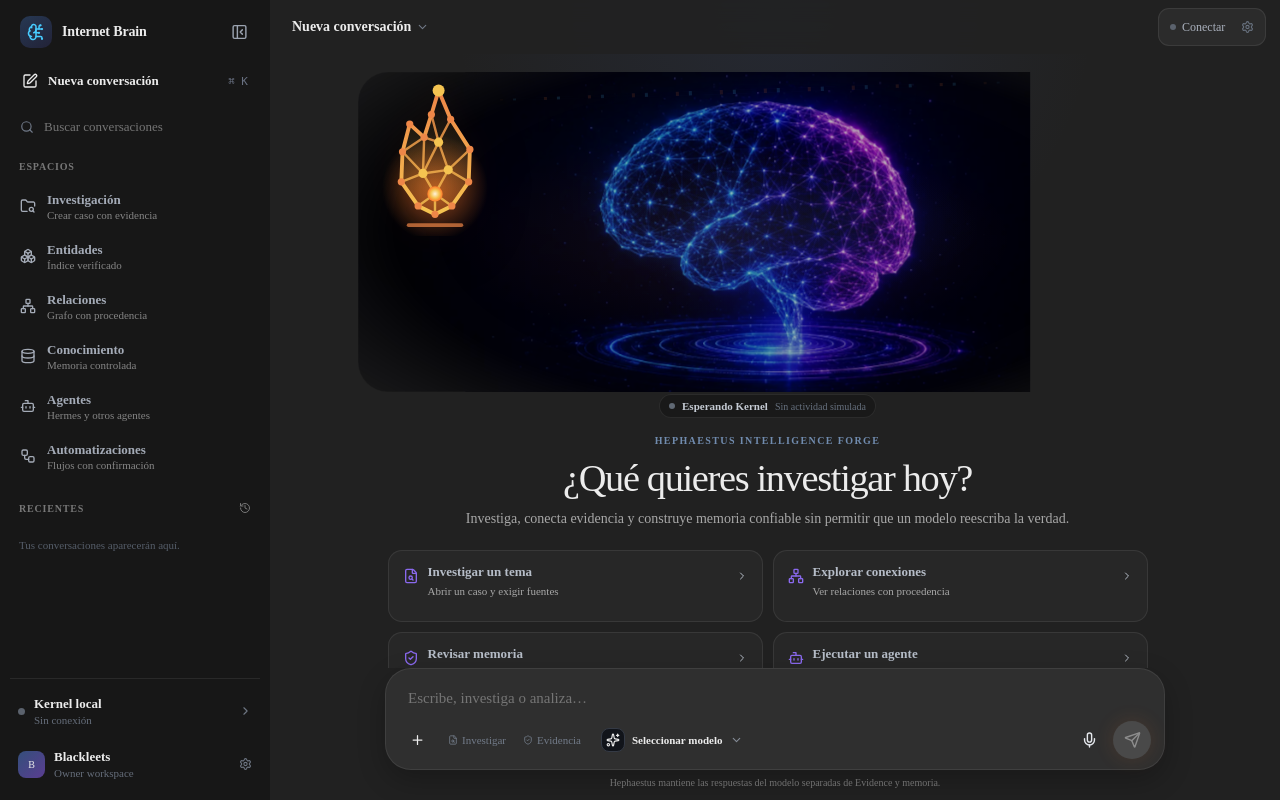
Test: Sites visual Control Center migration › keeps research as a draft until the owner explicitly executes it
The width and height of the screenshot is (1280, 800).
Click the button "Conectar" at (1212, 27), box 1158,8 -> 1266,46
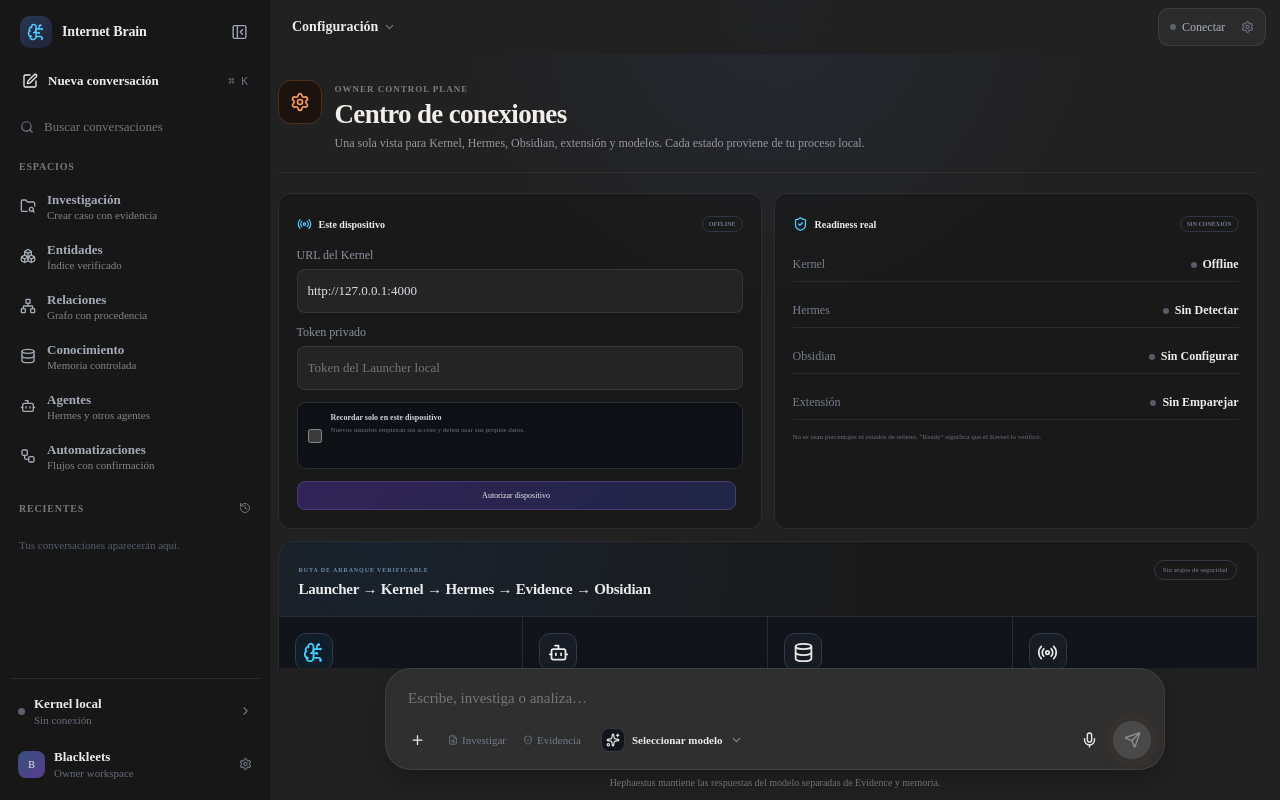
Type "test-token-that-is-long-enough-for-kernel-validation" into the password field labelled "Token privado" at (520, 368), box 296,346 -> 742,390
Click the button "Autorizar dispositivo" at (516, 496), box 296,481 -> 736,510
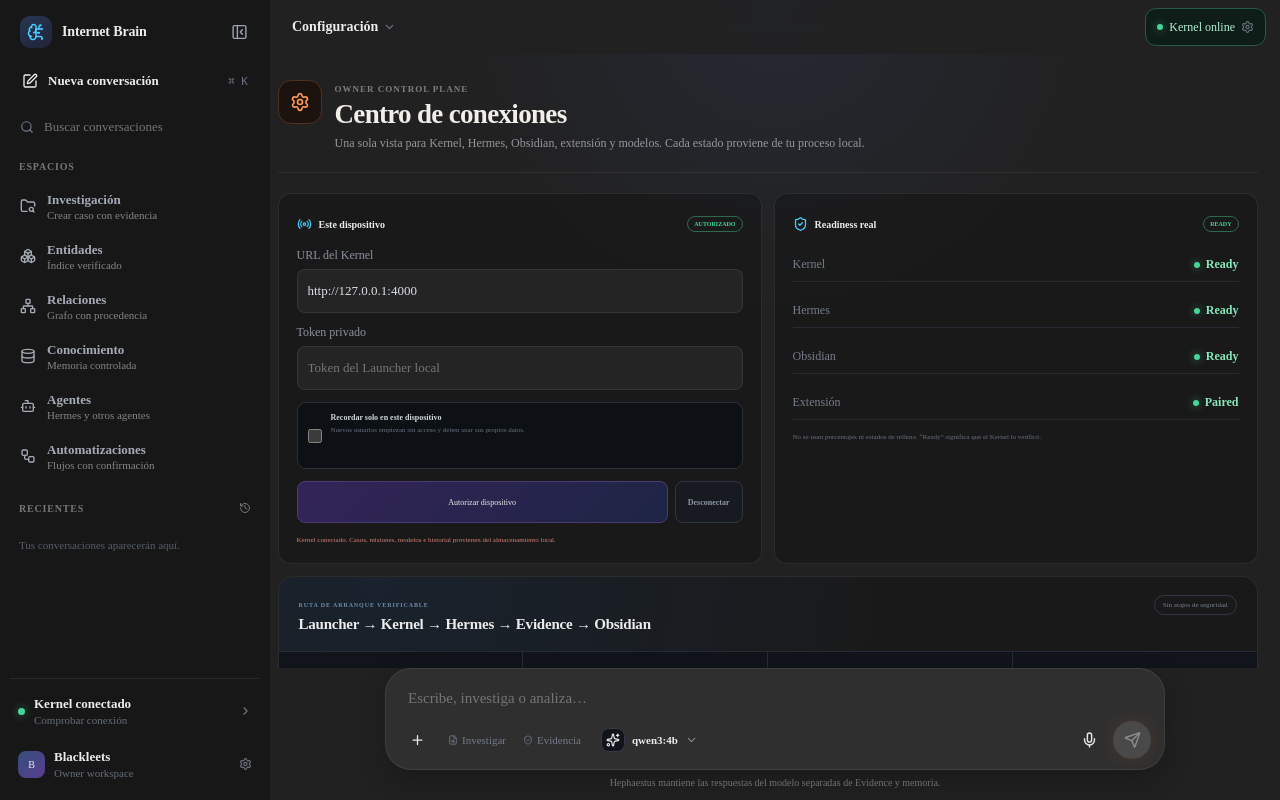
Now the button "Kernel online" is shown, box 1145,8 -> 1266,46
Click the button "Investigación Crear caso con evidencia" at (135, 206), box 10,182 -> 260,230
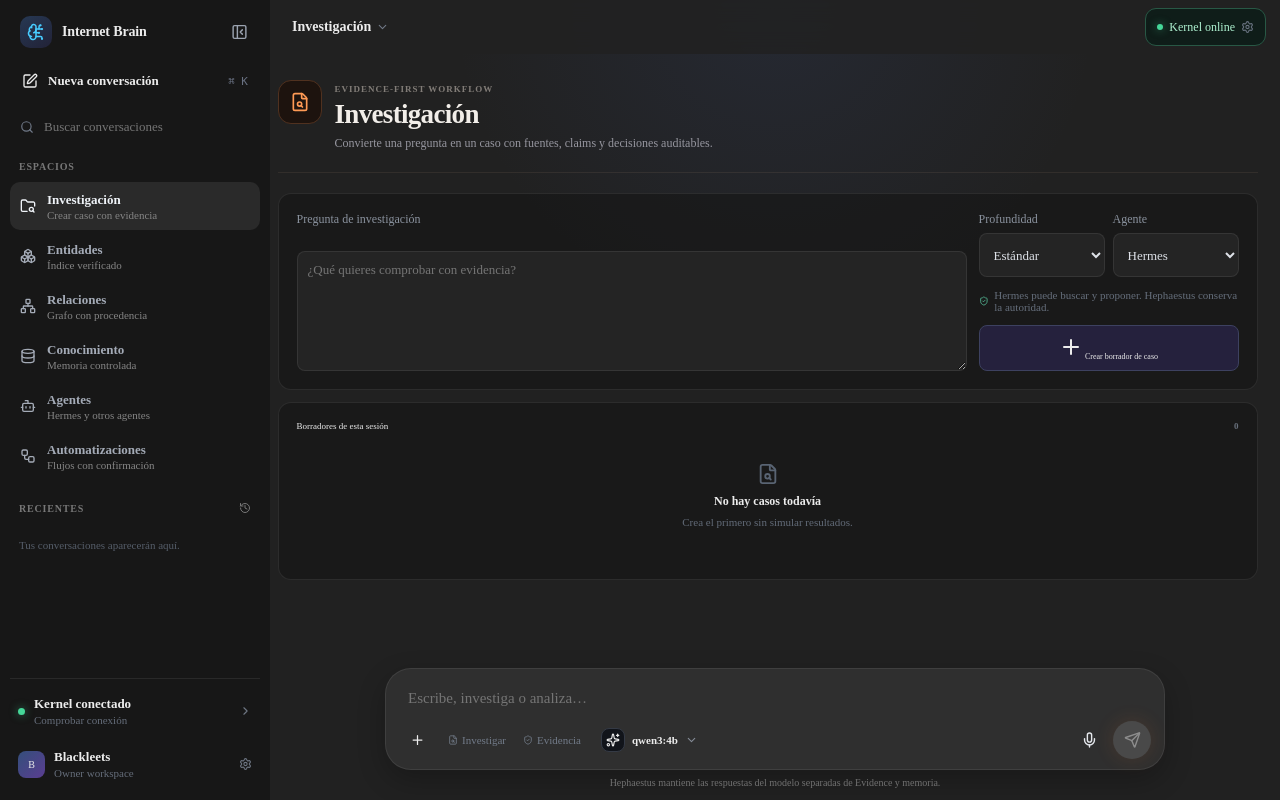
Type "Auditar proveedores públicos" into the text box with placeholder "¿Qué quieres comprobar con evidencia?" at (632, 311), box 296,251 -> 966,371
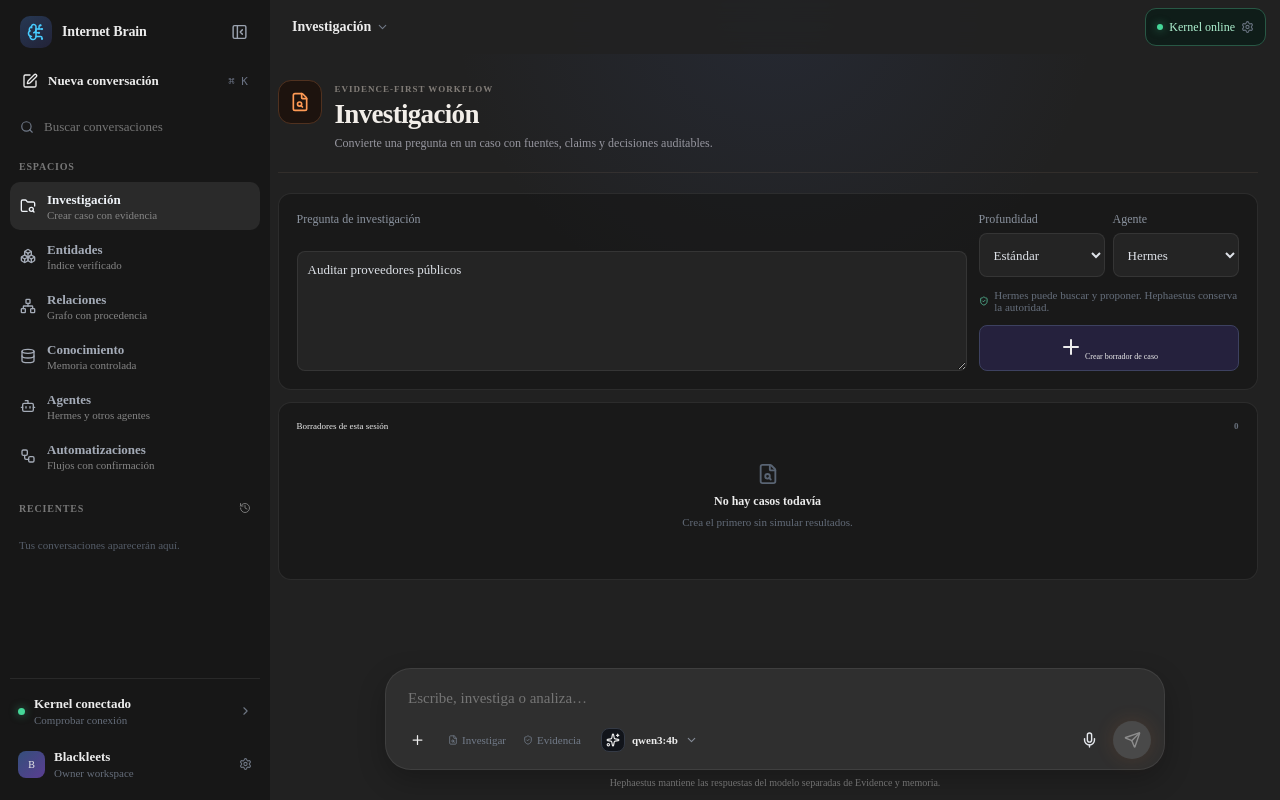
Click the button "Crear borrador de caso" at (1120, 356), box 978,325 -> 1238,371
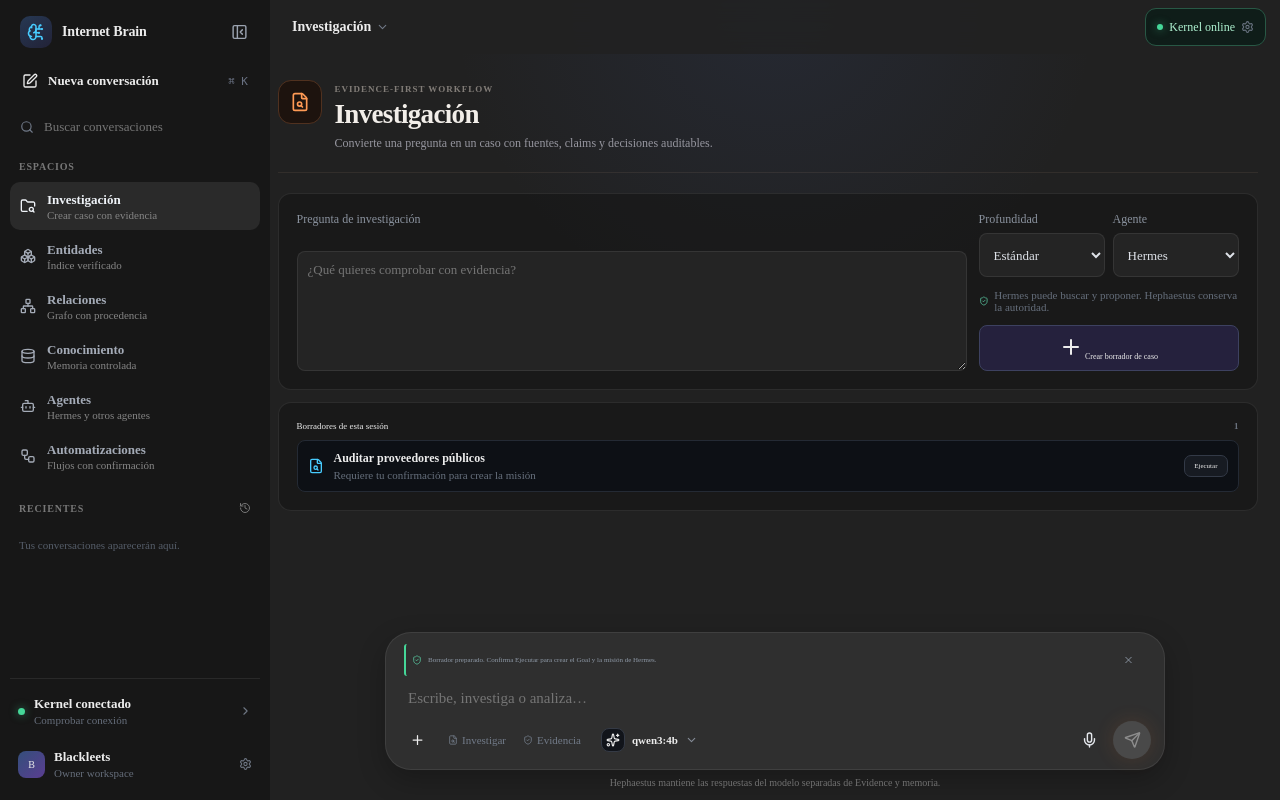
Click the button with aria-label "Ejecutar Auditar proveedores públicos" at (1206, 466), box 1184,455 -> 1228,477
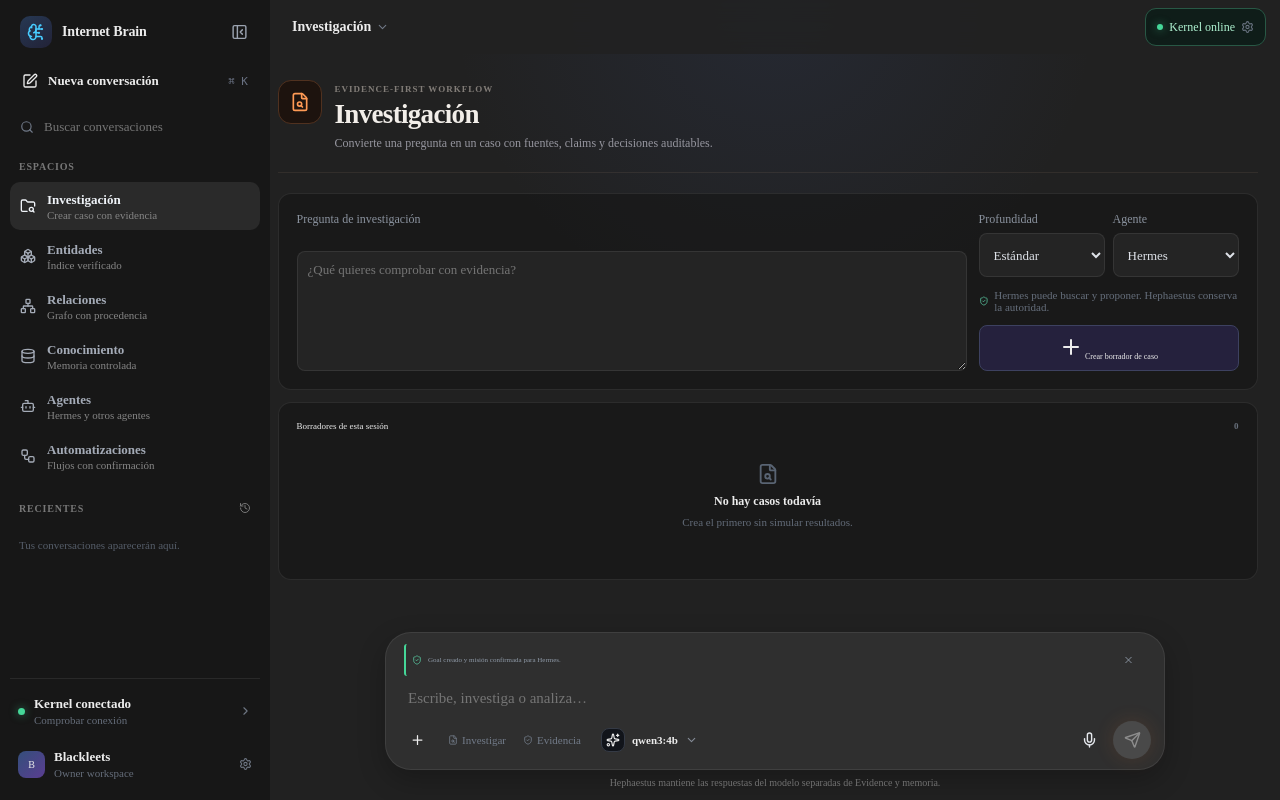
Now the text "Goal creado y misión confirmada para Hermes." is shown, box 428,656 -> 561,664
